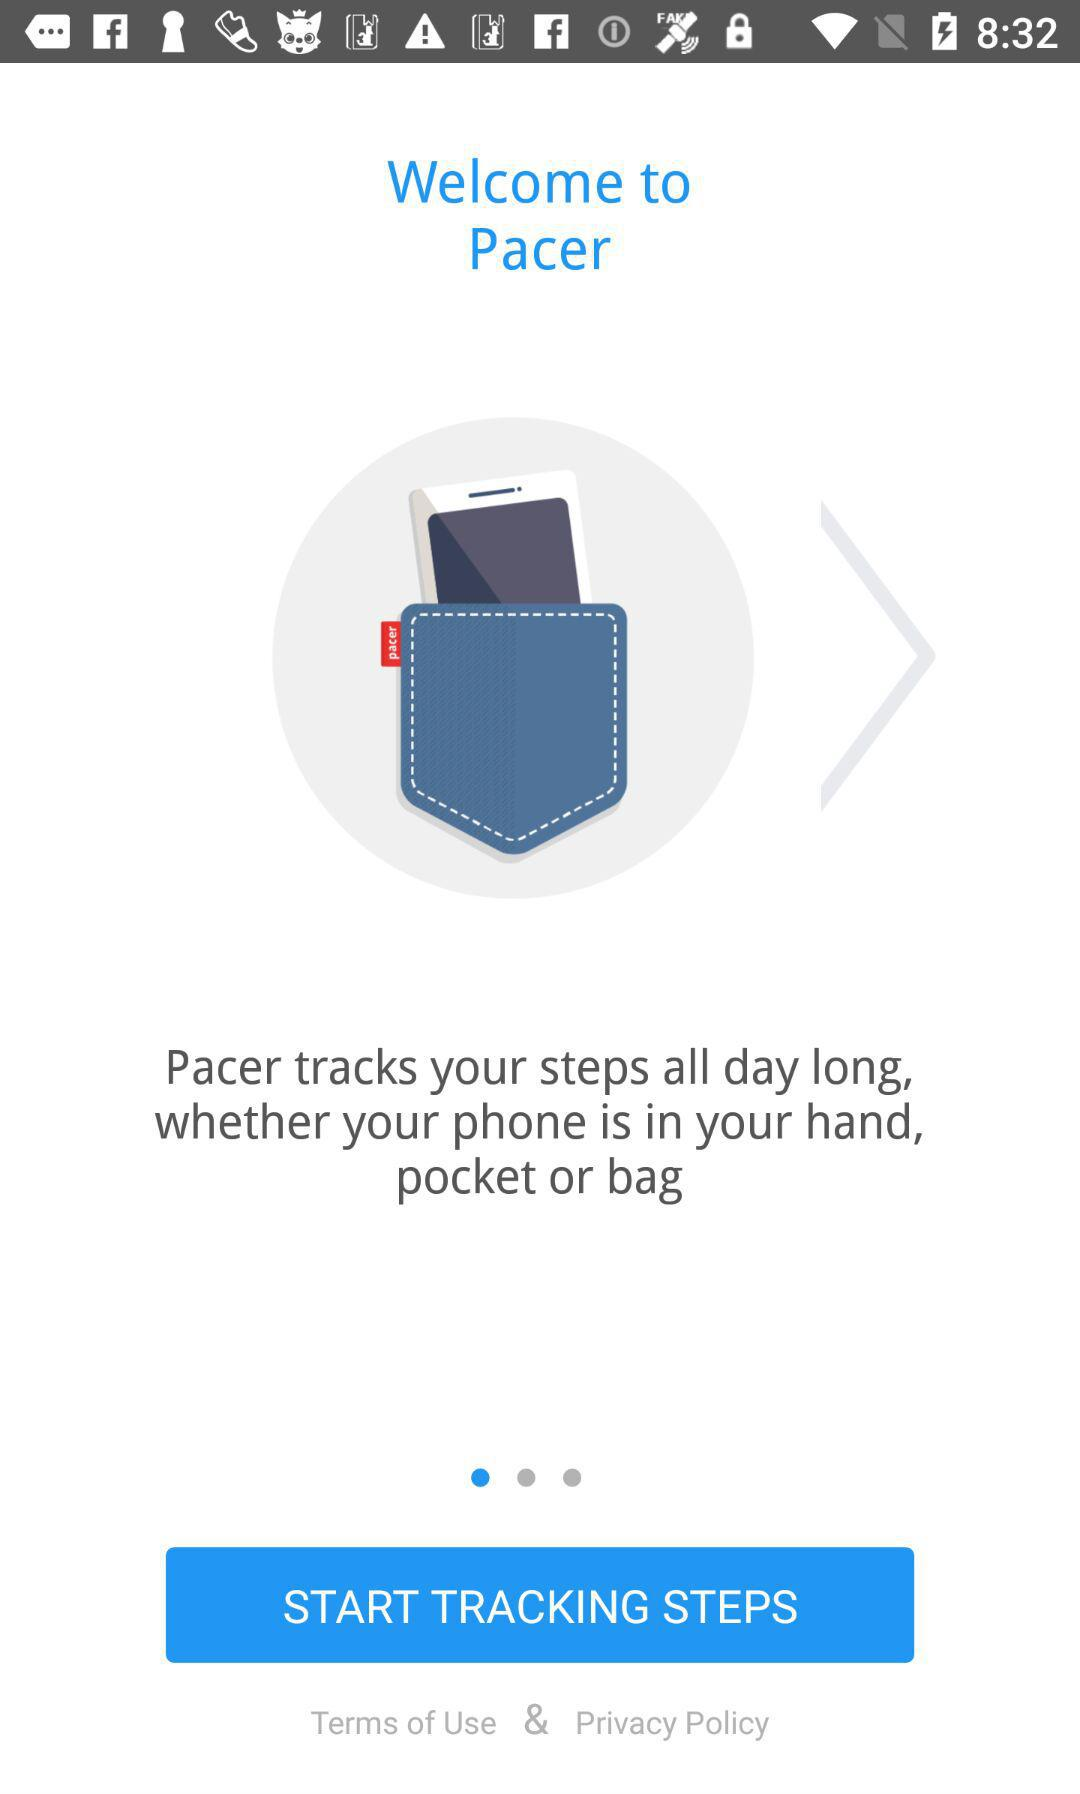Icon: (817, 500, 938, 807)
Image: (269, 415, 755, 900)
PageIndicator: (470, 1466, 585, 1490)
Text: (152, 1044, 922, 1206), (386, 156, 691, 274), (311, 1703, 771, 1743)
TextButton: (167, 1545, 915, 1665)
UpperTaskBar: (1, 1, 1080, 64)
